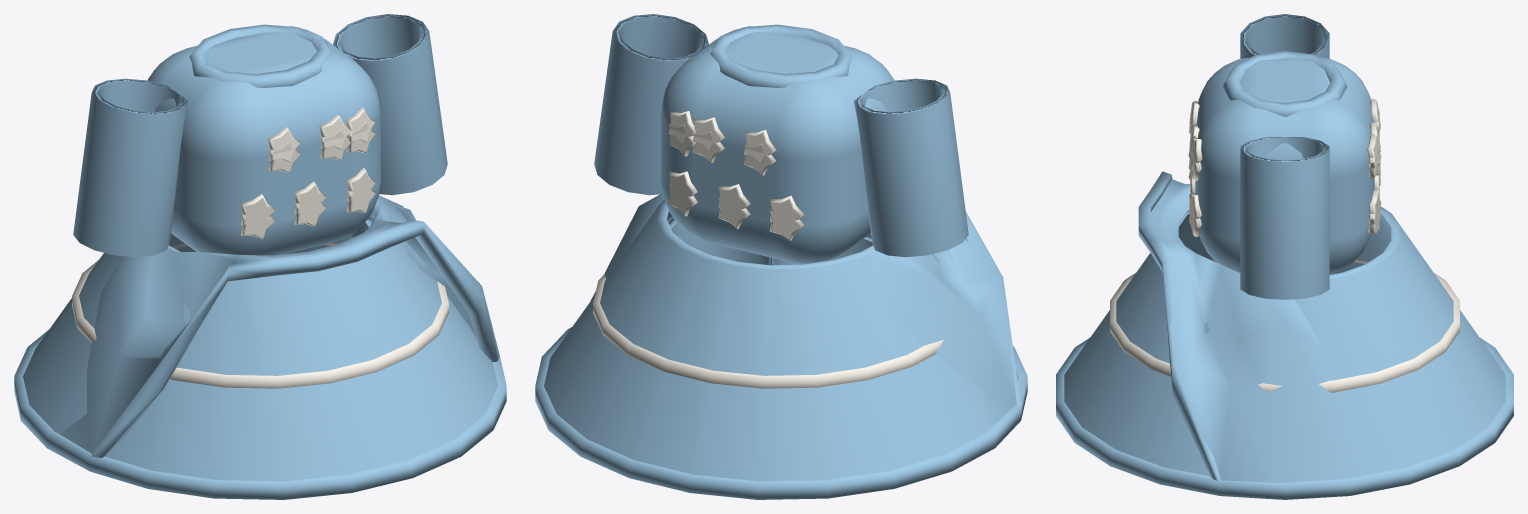
File: ao_dai.glb
The picture shows the model from 3 angles, left to right: view 1: azimuth 30°, elevation 25°; view 2: azimuth 150°, elevation 25°; view 3: azimuth 270°, elevation 25°; orthographic projection. The views are drawn at different scales.
Parts seen in each view (by area): view 1: ao_dai_Body, ao_dai_Body_sit, ao_dai_ArmL, ao_dai_ArmR; view 2: ao_dai_Body, ao_dai_Body_sit, ao_dai_ArmL, ao_dai_ArmR, ao_dai_LegR_sit; view 3: ao_dai_Body, ao_dai_Body_sit, ao_dai_ArmR, ao_dai_ArmL.
Boxes of the visible parts, box(x1,y1,x2,y2) form: ao_dai_Body: box(14, 24, 506, 499); ao_dai_Body_sit: box(60, 51, 499, 457); ao_dai_ArmL: box(73, 78, 188, 257); ao_dai_ArmR: box(333, 14, 447, 195); ao_dai_Body: box(535, 24, 1027, 499); ao_dai_Body_sit: box(590, 49, 1020, 427); ao_dai_ArmL: box(853, 78, 968, 257); ao_dai_ArmR: box(594, 14, 708, 195); ao_dai_LegR_sit: box(668, 217, 772, 265); ao_dai_Body: box(1056, 51, 1513, 499); ao_dai_Body_sit: box(1138, 99, 1385, 482); ao_dai_ArmR: box(1240, 137, 1329, 299); ao_dai_ArmL: box(1240, 14, 1329, 58).
Bounding box in the file's own units: 0.748 × 0.6289 × 0.7404.
